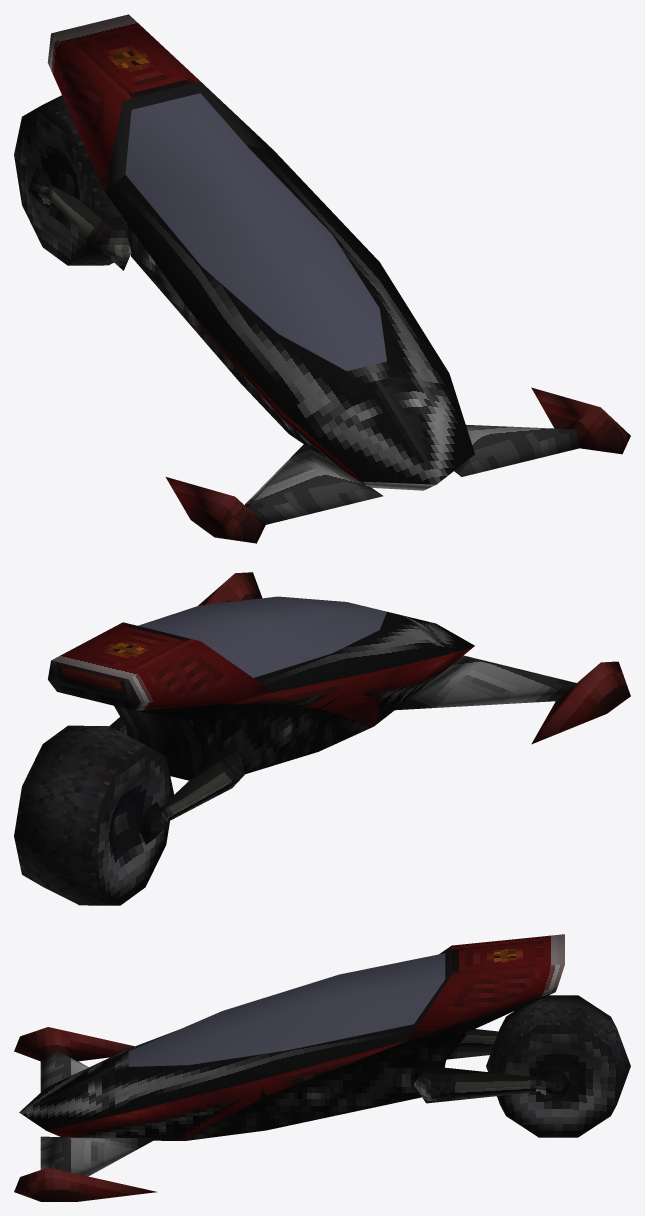
File: vigilante_v8_2nd_offence_obakes_tsunami.glb
The picture shows the model from 3 angles, top to bottom: view 1: azimuth 30°, elevation 25°; view 2: azimuth 150°, elevation 25°; view 3: azimuth 270°, elevation 25°; orthographic projection. The views are drawn at different scales.
Visible parts, largest first — view 1: Front_2, Wheel1_3, Back_1, Wheel2_4, Attacher_0; view 2: Front_2, Wheel2_4, Back_1, Wheel1_3, Attacher_0; view 3: Front_2, Wheel2_4, Back_1, Wheel1_3, Attacher_0.
Part boxes in pixels (x1,y1,x2,y2): Front_2: [105, 93, 474, 490]; Wheel1_3: [166, 387, 630, 543]; Back_1: [47, 14, 273, 191]; Wheel2_4: [14, 95, 129, 265]; Attacher_0: [28, 166, 131, 270]; Front_2: [138, 596, 474, 774]; Wheel2_4: [14, 725, 174, 905]; Back_1: [48, 622, 273, 780]; Wheel1_3: [198, 572, 630, 744]; Attacher_0: [109, 717, 244, 844]; Front_2: [19, 953, 445, 1140]; Wheel2_4: [486, 995, 630, 1137]; Back_1: [408, 934, 564, 1059]; Wheel1_3: [14, 1027, 156, 1201]; Attacher_0: [413, 1029, 570, 1103].
Size of the model in its own units: 19.33 by 10.12 by 31.47.
17 materials, 15 textured.
